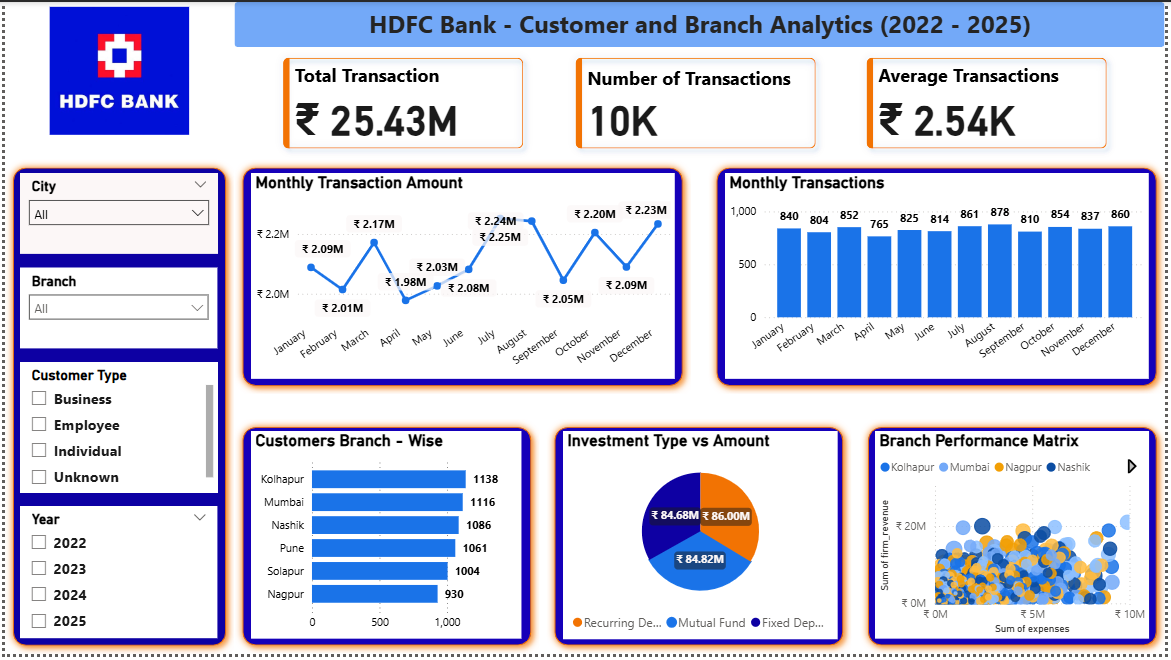

The dashboard page shown, as its layout file describes it:
{"tool":"powerbi","page":{"name":"Page 1","canvas":[1280,720],"ordinal":0},"visuals":[{"type":"image","box":[0,0,253,151.4],"z":0},{"type":"cardVisual","fields":{"Data":["Sum(bank_analytics trans_data.transaction_amount)"]},"box":[289.9,49.7,299.8,124.2],"z":1000},{"type":"cardVisual","fields":{"Data":["CountNonNull(bank_analytics trans_data.transaction_id)"]},"box":[612.1,49.7,299.8,124.2],"z":2000},{"type":"cardVisual","fields":{"Data":["Avg(bank_analytics trans_data.transaction_amount)"]},"box":[934.3,49.7,299.8,124.2],"z":3000},{"type":"shape","box":[253,173.3,503.9,258.9],"z":4000},{"type":"lineChart","title":"Monthly Transaction Amount","fields":{"Category":["bank_analytics trans_data.transaction_date.Variation.Date Hierarchy.Month"],"Y":["Sum(bank_analytics trans_data.transaction_amount)"]},"box":[271.7,188.8,468,227],"z":5000},{"type":"shape","box":[776.8,173.3,503.9,258.9],"z":6000},{"type":"columnChart","title":"Monthly Transactions","fields":{"Category":["bank_analytics trans_data.transaction_date.Variation.Date Hierarchy.Month"],"Y":["CountNonNull(bank_analytics trans_data.transaction_id)"]},"box":[795.1,188.8,468,227],"z":7000},{"type":"shape","box":[253,460.1,336.6,258.9],"z":8000},{"type":"shape","box":[598.5,460.1,336.6,258.9],"z":9000},{"type":"shape","box":[943.4,460.1,336.6,258.9],"z":10000},{"type":"barChart","title":"Customers Branch - Wise","fields":{"Category":["bank_analytics trans_data.city_branch"],"Y":["Count(bank_analytics trans_data.customer_id)"]},"box":[270.9,474,298.8,229],"z":11000},{"type":"pieChart","title":"Investment Type vs Amount","fields":{"Category":["bank_analytics trans_data.investment_type"],"Y":["Sum(bank_analytics trans_data.investment_amount)"]},"box":[615.4,474,303,230],"z":12000},{"type":"scatterChart","title":"Branch Performance Matrix","fields":{"X":["Sum(bank_analytics trans_data.expenses)"],"Y":["Sum(bank_analytics trans_data.firm_revenue)"],"Size":["Sum(bank_analytics trans_data.transaction_amount)"],"Series":["bank_analytics trans_data.city_branch"],"Category":["bank_analytics trans_data.branch_id"]},"box":[960,474,302.7,229],"z":13000},{"type":"shape","box":[0,173.3,253,545.7],"z":14000},{"type":"slicer","fields":{"Values":["bank_analytics trans_data.city","bank_analytics trans_data.region"]},"box":[16.6,188.8,218.7,89.4],"z":15000},{"type":"shape","box":[253.4,0,1027,49.7],"z":16000},{"type":"slicer","fields":{"Values":["bank_analytics trans_data.city_branch","bank_analytics trans_data.region_branch"]},"box":[16.6,293.2,218,89.4],"z":16000},{"type":"slicer","fields":{"Values":["bank_analytics trans_data.customer_type"]},"box":[16.6,397.6,218,144.1],"z":17000},{"type":"slicer","fields":{"Values":["bank_analytics trans_data.transaction_date.Variation.Date Hierarchy.Year"]},"box":[16.6,556.6,218,145.8],"z":18000},{"type":"textbox","box":[271.7,0,992.2,49.7],"z":18001}]}

Visuals, with their boxes in screenshot pixels (x1, y1, x2, y2), scaled from the page's 1280x720 canvas onto the 1171x660 screenshot:
image: [0,0,231,139]
cardVisual - Sum(bank_analytics trans_data.transaction_amount): [265,46,539,159]
cardVisual - CountNonNull(bank_analytics trans_data.transaction_id): [560,46,834,159]
cardVisual - Avg(bank_analytics trans_data.transaction_amount): [855,46,1129,159]
shape: [231,159,692,396]
"Monthly Transaction Amount" lineChart: [249,173,677,381]
shape: [711,159,1170,396]
"Monthly Transactions" columnChart: [727,173,1156,381]
shape: [231,422,539,659]
shape: [548,422,855,659]
shape: [863,422,1170,659]
"Customers Branch - Wise" barChart: [248,434,521,644]
"Investment Type vs Amount" pieChart: [563,434,840,645]
"Branch Performance Matrix" scatterChart: [878,434,1155,644]
shape: [0,159,231,659]
slicer - bank_analytics trans_data.city x bank_analytics trans_data.region: [15,173,215,255]
shape: [232,0,1170,46]
slicer - bank_analytics trans_data.city_branch x bank_analytics trans_data.region_branch: [15,269,215,351]
slicer - bank_analytics trans_data.customer_type: [15,364,215,497]
slicer - bank_analytics trans_data.transaction_date.Variation.Date Hierarchy.Year: [15,510,215,644]
textbox: [249,0,1156,46]
